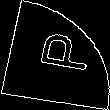P_W: (22, 31, 88, 79)
